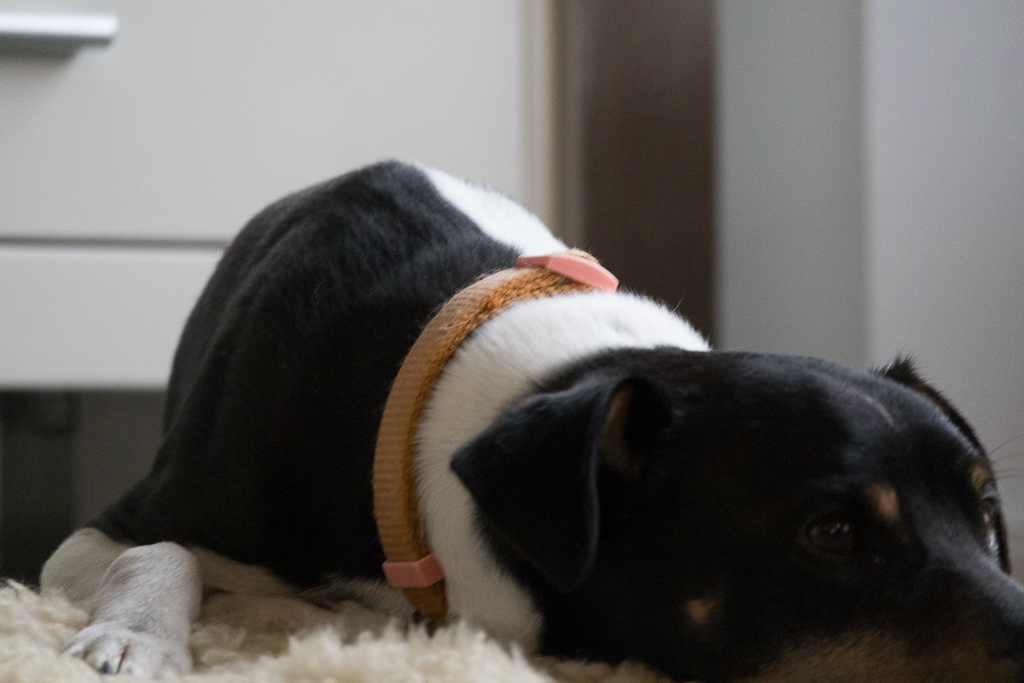Dog: (34, 149, 1024, 683)
